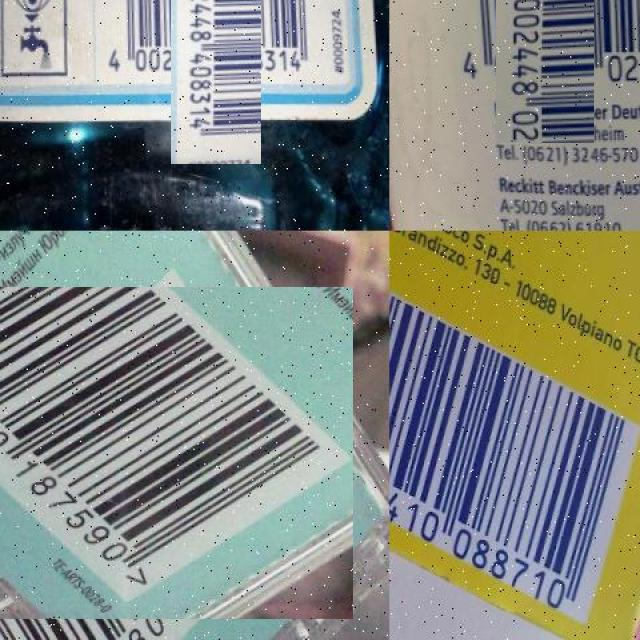Barcode: (0, 277, 343, 630), (389, 256, 640, 629), (133, 0, 298, 128), (473, 0, 617, 121)
